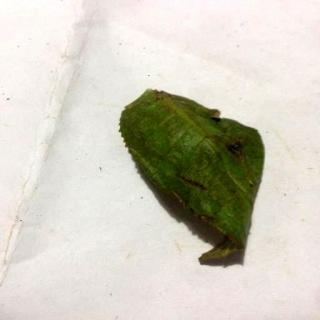Red Leaf Spot: (120, 92, 265, 266)
